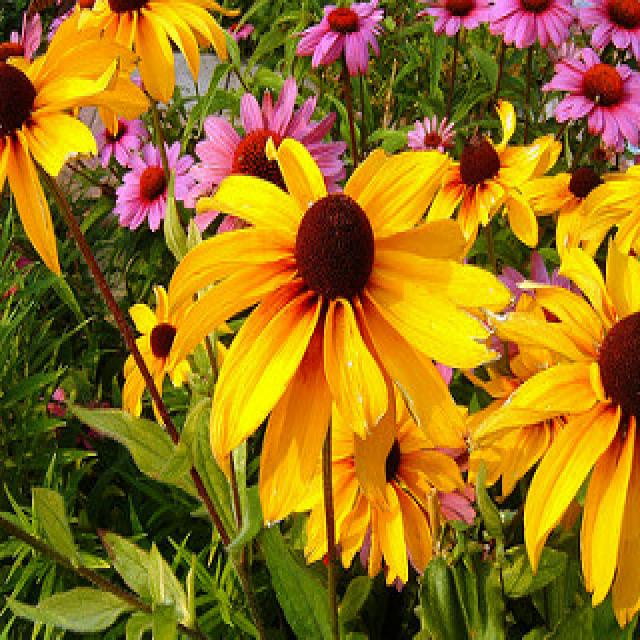sunflower: (163, 140, 499, 478), (500, 232, 640, 627), (0, 42, 118, 258), (39, 0, 241, 106), (120, 289, 228, 408), (547, 48, 640, 157), (114, 138, 196, 232), (302, 0, 384, 69), (488, 0, 574, 45), (577, 0, 640, 56), (420, 0, 489, 36)
